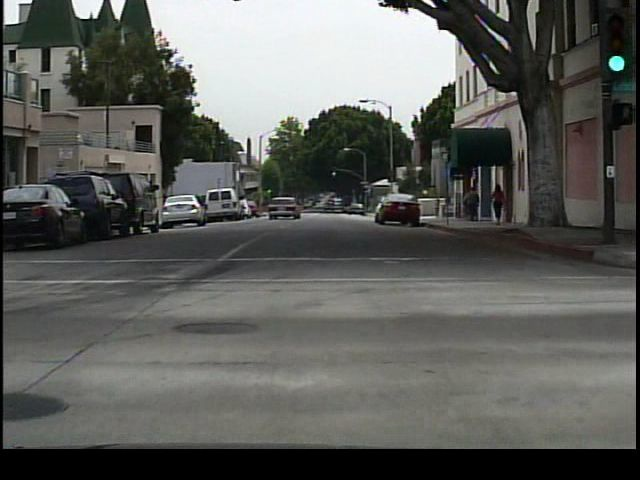person: (490, 178, 509, 226), (460, 184, 481, 226)
